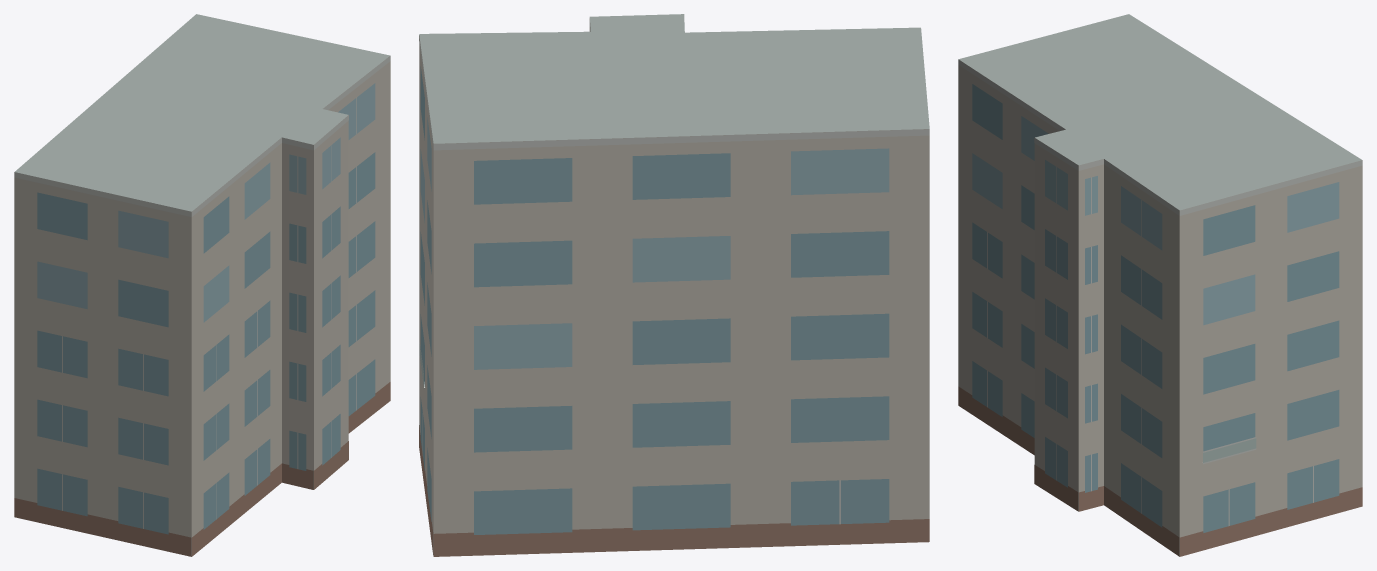
The model's file is survey-upis-33006296.glb.
The picture shows the model from 3 angles, left to right: view 1: azimuth 30°, elevation 25°; view 2: azimuth 150°, elevation 25°; view 3: azimuth 270°, elevation 25°; orthographic projection. The views are drawn at different scales.
Visible parts, largest first — view 1: survey-upis-33006296.tmp; view 2: survey-upis-33006296.tmp; view 3: survey-upis-33006296.tmp.
Part boxes in pixels (x1,y1,x2,y2): survey-upis-33006296.tmp: (14, 14, 390, 556); survey-upis-33006296.tmp: (419, 14, 929, 556); survey-upis-33006296.tmp: (958, 14, 1362, 556).
Size of the model in its own units: 18.63 by 15.3 by 16.19.
